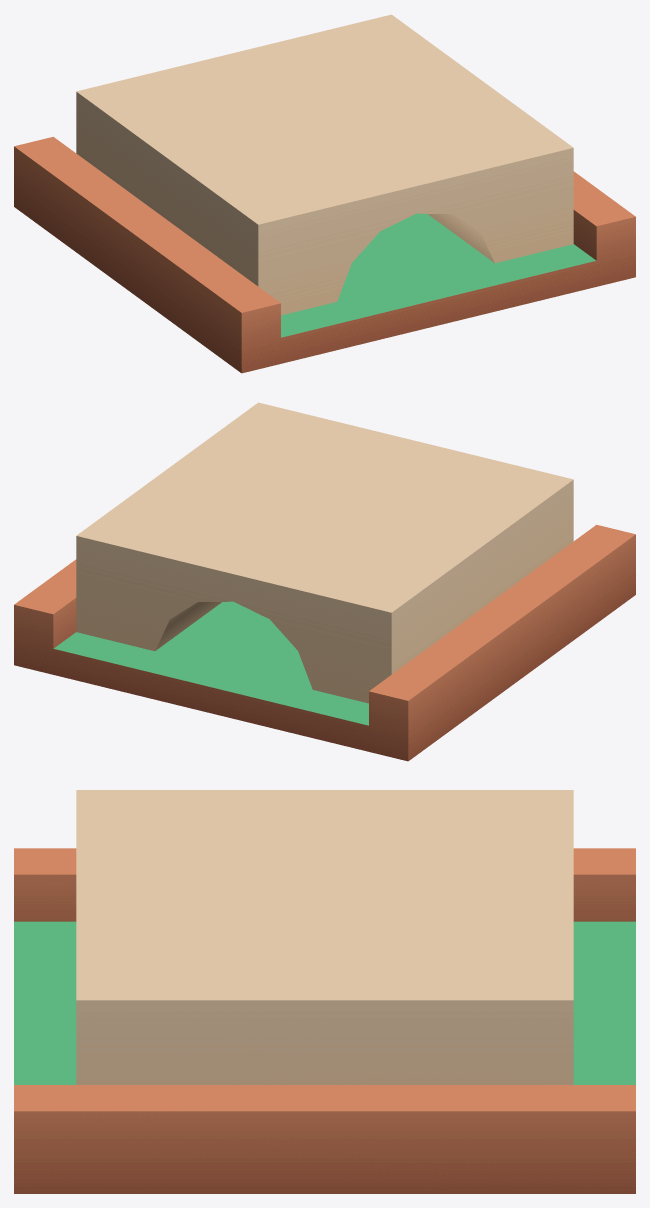
Rendered from tunnel-wide.glb.
3 renders of one model, top to bottom at view 1: azimuth 30°, elevation 25°; view 2: azimuth 150°, elevation 25°; view 3: azimuth 270°, elevation 25°, orthographic. The views are drawn at different scales.
Visible parts, largest first — view 1: tunnel-wide; view 2: tunnel-wide; view 3: tunnel-wide.
Part boxes in pixels (box(x1,y1,x2,y2)): tunnel-wide: box(14, 14, 635, 373); tunnel-wide: box(14, 402, 635, 761); tunnel-wide: box(14, 790, 635, 1193).
Size of the model in its own units: 0.9999 by 0.2966 by 0.9999.
1 material, 1 textured.
